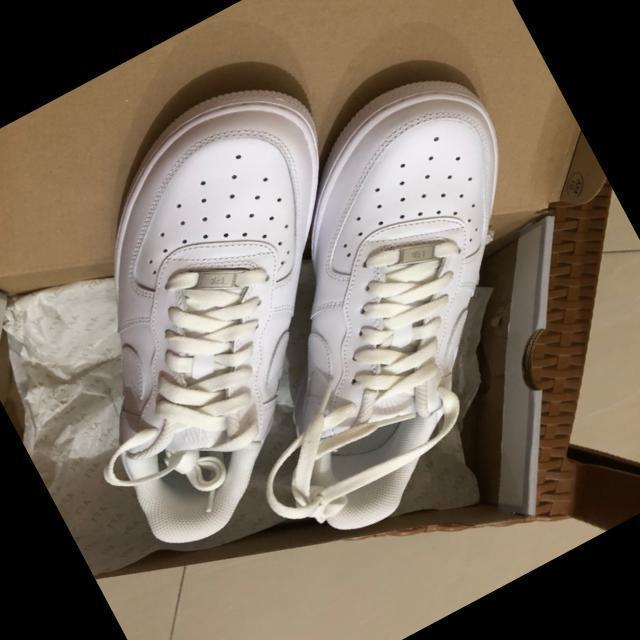nike original air force: (144, 47, 640, 554), (0, 49, 483, 563)
